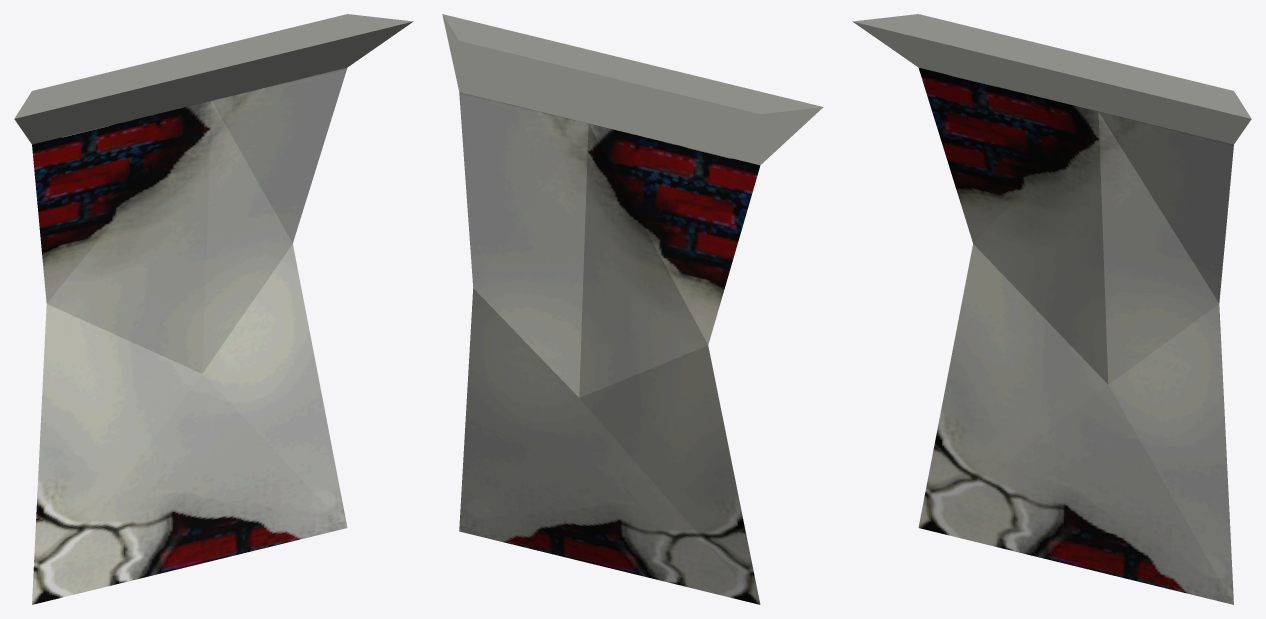
Rendered from W_A1_x [Verwahrlost3]_1612.glb.
3 renders of one model, left to right at view 1: azimuth 30°, elevation 25°; view 2: azimuth 150°, elevation 25°; view 3: azimuth 330°, elevation 25°, orthographic. The views are drawn at different scales.
Parts seen in each view (by area): view 1: polySurfaceShape1201, polySurfaceShape1203; view 2: polySurfaceShape1201, polySurfaceShape1203; view 3: polySurfaceShape1201, polySurfaceShape1203.
Boxes of the visible parts, x1=… form: polySurfaceShape1201: x1=32, y1=68, x2=347, y2=604; polySurfaceShape1203: x1=14, y1=14, x2=413, y2=144; polySurfaceShape1201: x1=459, y1=92, x2=760, y2=604; polySurfaceShape1203: x1=442, y1=14, x2=823, y2=165; polySurfaceShape1201: x1=918, y1=68, x2=1233, y2=604; polySurfaceShape1203: x1=852, y1=14, x2=1251, y2=144.
Bounding box in the file's own units: 0.3166 × 0.3891 × 0.0607.
2 materials, 2 textured.
